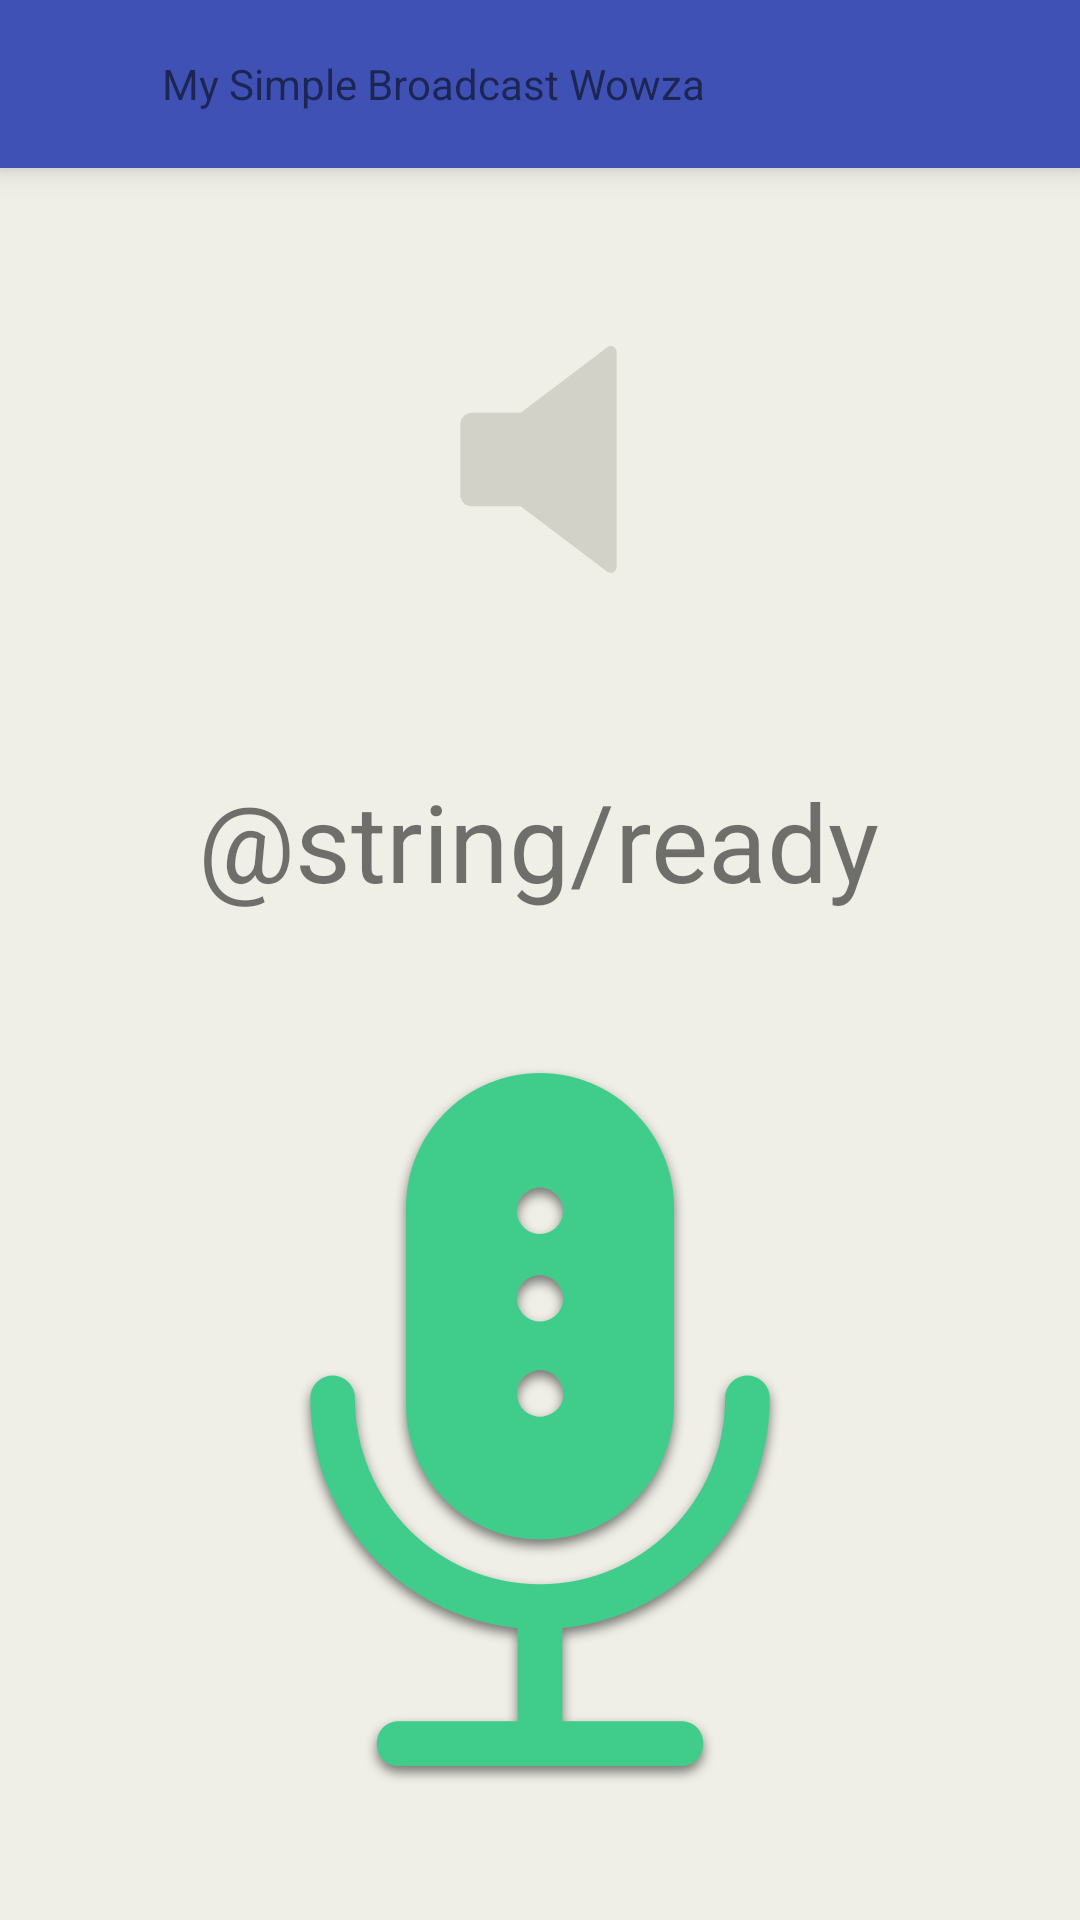

Where icons sit on this 1080 x 1920 app screen, as (x1, y1, x2, y2):
speaker: (461, 346, 616, 572)
